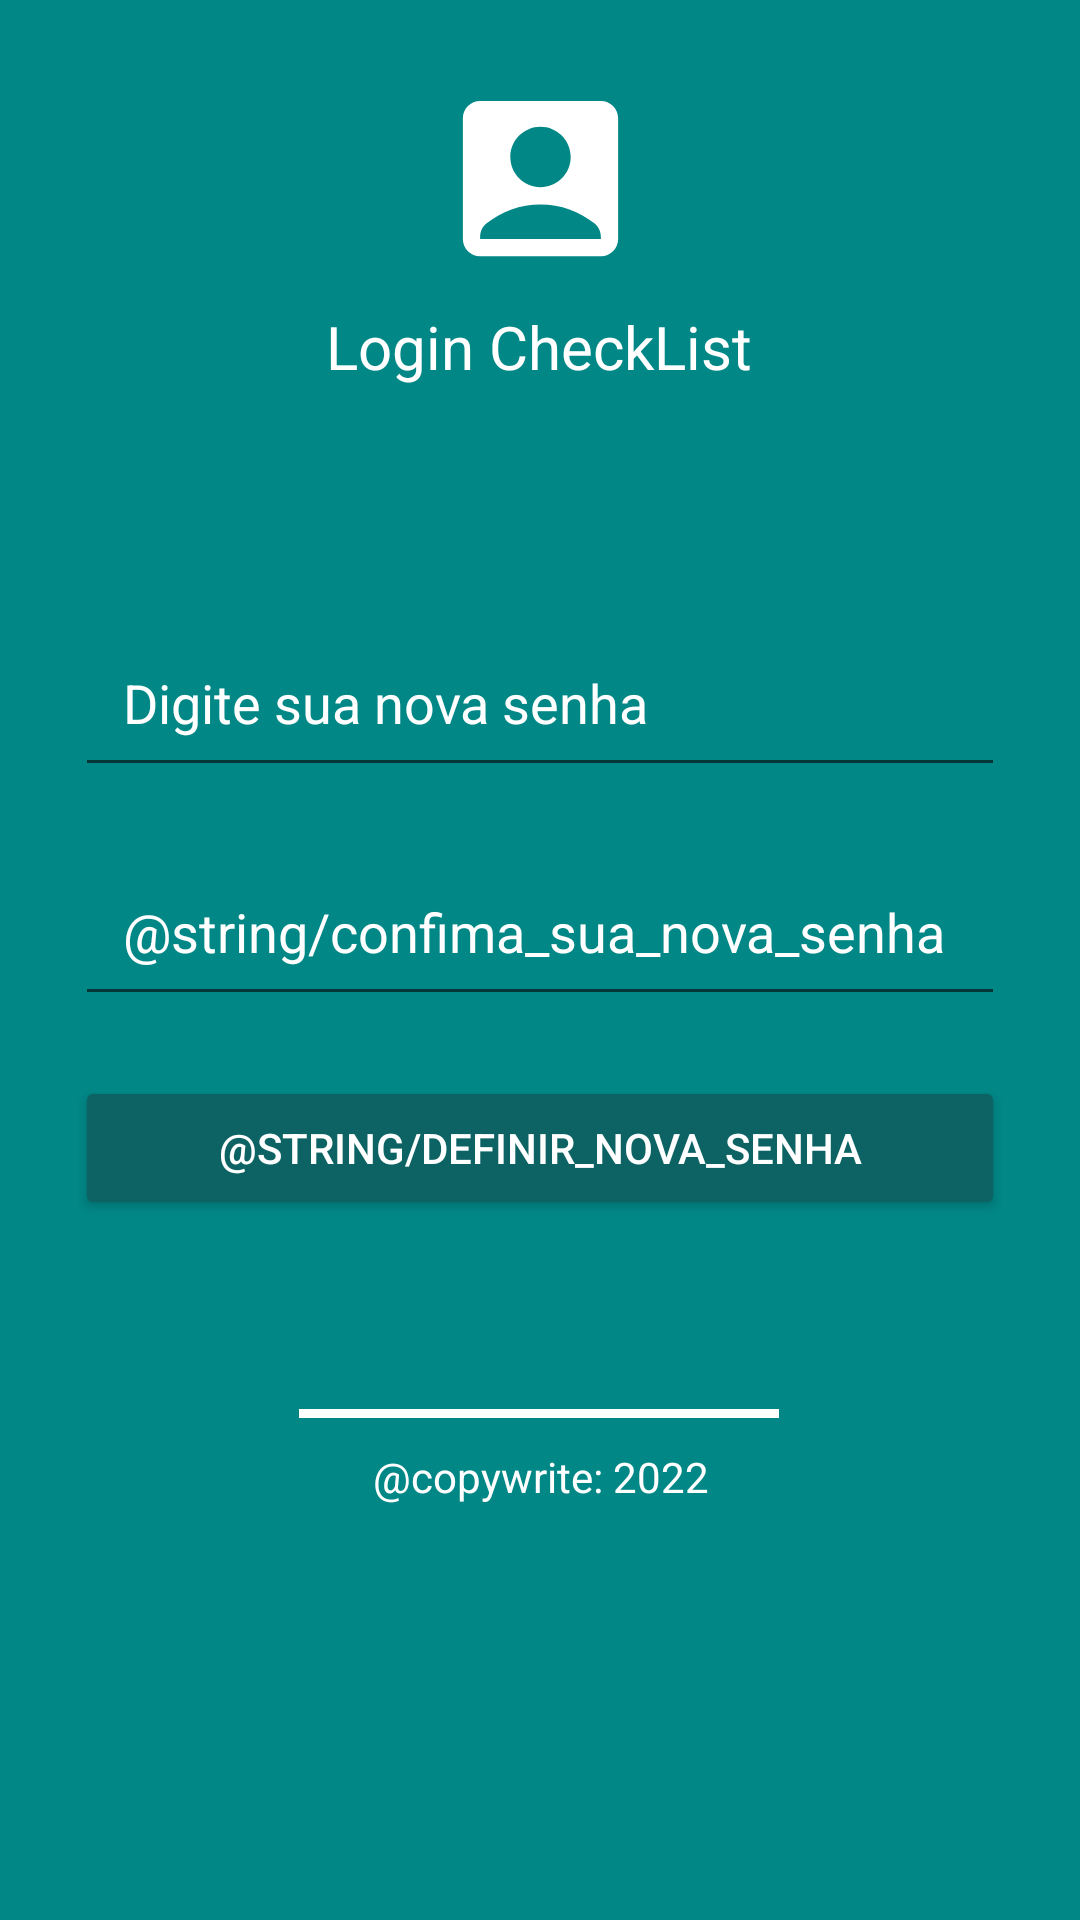

Icons on this 1080px×1920px Android screen, each with the point to tap as (x=x, y=y):
user: (x=540, y=179)
